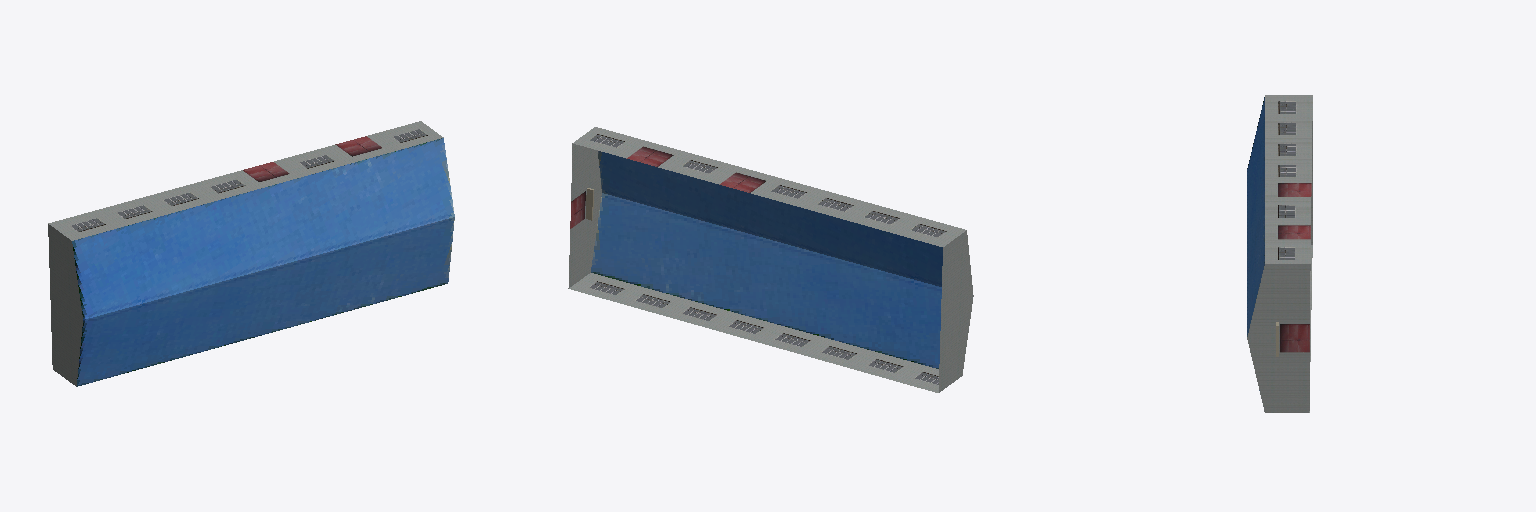
3 renders of one model, left to right at view 1: azimuth 30°, elevation 25°; view 2: azimuth 150°, elevation 25°; view 3: azimuth 270°, elevation 25°, orthographic.
Visible parts, largest first — view 1: Group_MatrixTransform_i96142_Geometry_4, Group_MatrixTransform_i96142_Geometry_1, Group_MatrixTransform_i96142_Geometry_0, Group_MatrixTransform_i96142_Geometry_2; view 2: Group_MatrixTransform_i96142_Geometry_4, Group_MatrixTransform_i96142_Geometry_1, Group_MatrixTransform_i96142_Geometry_0, Group_MatrixTransform_i96142_Geometry_2; view 3: Group_MatrixTransform_i96142_Geometry_0, Group_MatrixTransform_i96142_Geometry_1, Group_MatrixTransform_i96142_Geometry_4, Group_MatrixTransform_i96142_Geometry_2.
Part boxes in pixels (left/top/right/bottom): Group_MatrixTransform_i96142_Geometry_4: left=72, top=138, right=454, bottom=386; Group_MatrixTransform_i96142_Geometry_1: left=48, top=121, right=443, bottom=240; Group_MatrixTransform_i96142_Geometry_0: left=48, top=224, right=82, bottom=386; Group_MatrixTransform_i96142_Geometry_2: left=235, top=134, right=396, bottom=188; Group_MatrixTransform_i96142_Geometry_4: left=591, top=151, right=942, bottom=368; Group_MatrixTransform_i96142_Geometry_1: left=569, top=127, right=965, bottom=392; Group_MatrixTransform_i96142_Geometry_0: left=568, top=143, right=973, bottom=392; Group_MatrixTransform_i96142_Geometry_2: left=570, top=140, right=780, bottom=231; Group_MatrixTransform_i96142_Geometry_0: left=1247, top=121, right=1312, bottom=412; Group_MatrixTransform_i96142_Geometry_1: left=1265, top=95, right=1312, bottom=412; Group_MatrixTransform_i96142_Geometry_4: left=1247, top=97, right=1264, bottom=390; Group_MatrixTransform_i96142_Geometry_2: left=1265, top=180, right=1311, bottom=354.
Bounding box in the file's own units: 40.56 × 16.16 × 6.02.
6 materials, 6 textured.